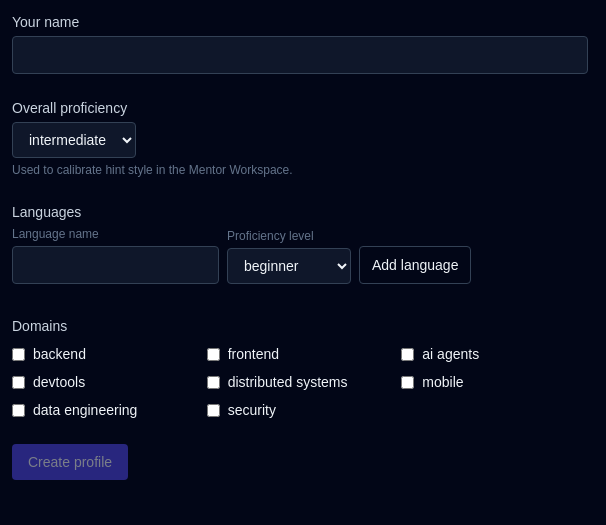
Test case: ProfileForm › shows a loading state while the request is in flight
Type "Ada Lovelace" into the field labelled "Your name" at x=300, y=55, box left=12, top=36, right=588, bottom=74
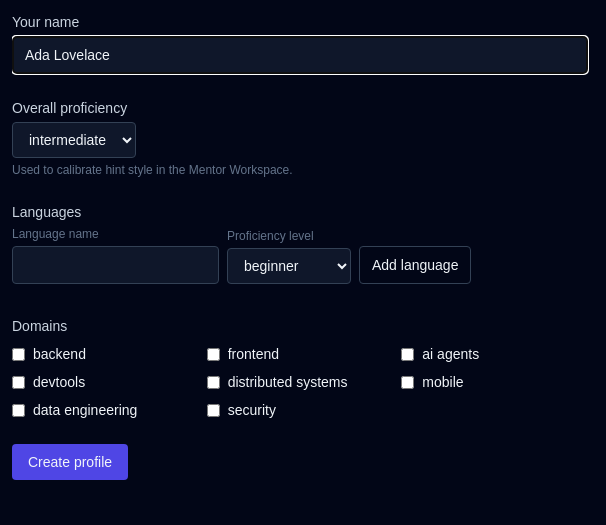
Type "Python" into the field labelled "Language name" at x=116, y=265, box left=12, top=246, right=219, bottom=284
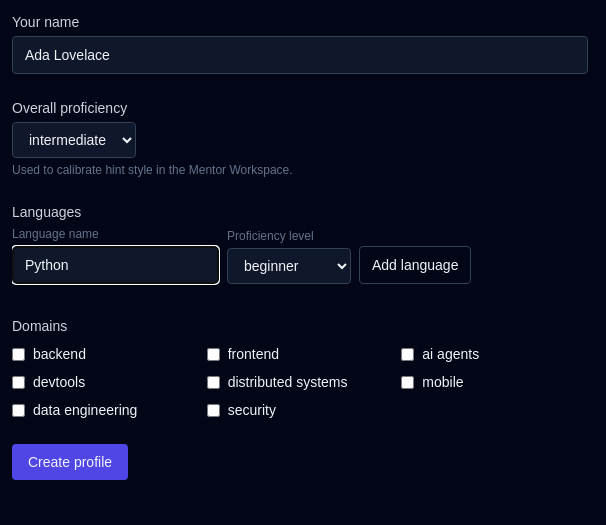
Select "advanced" in the dropdown labelled "Proficiency level" at x=289, y=266, box left=227, top=248, right=351, bottom=284
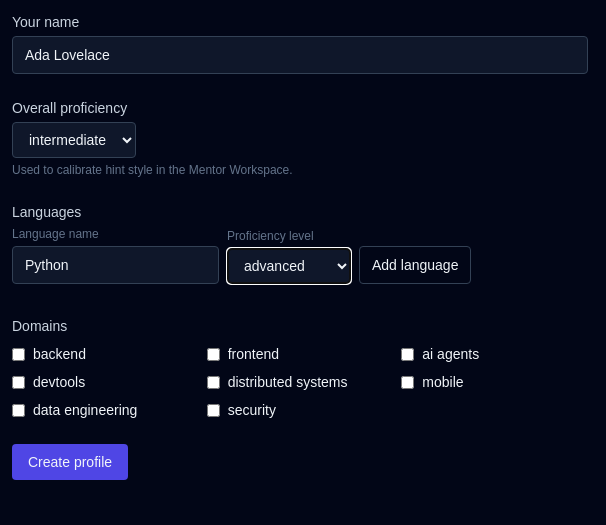
Click the button "Add language" at x=415, y=265, box left=359, top=246, right=471, bottom=284
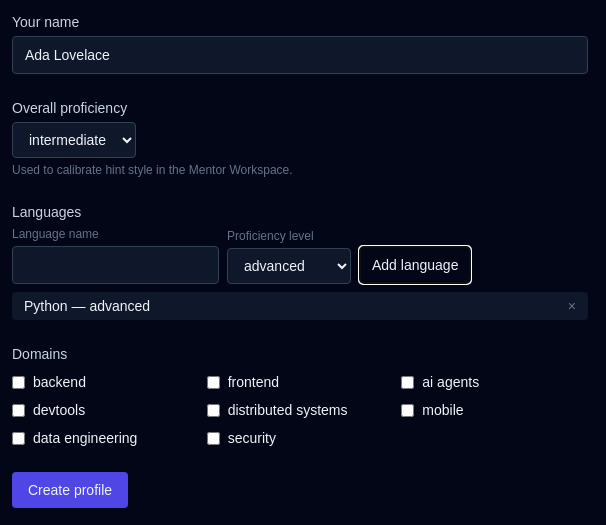
Click the checkbox labelled "backend" at x=18, y=382, box left=12, top=376, right=25, bottom=388
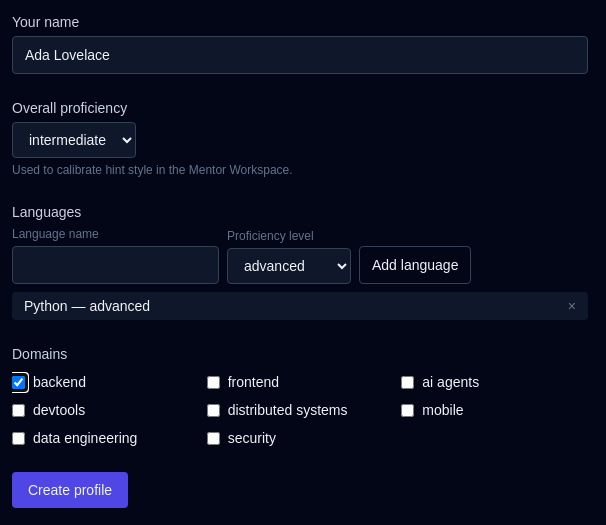
Click the button "Create profile" at x=70, y=490, box left=12, top=472, right=128, bottom=508
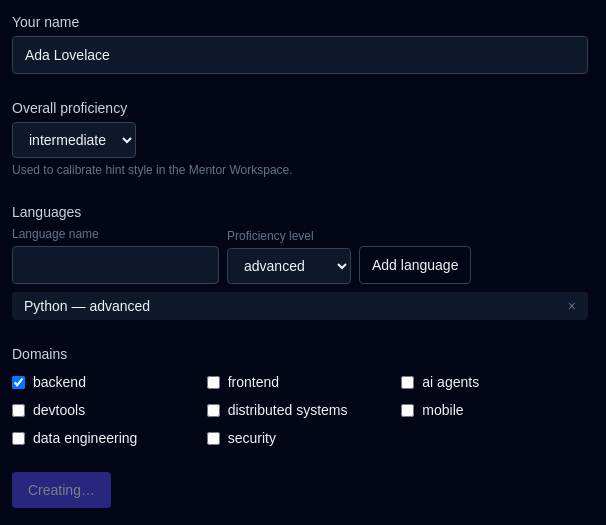
expect the button "Creating…" is disabled: met, box left=12, top=472, right=111, bottom=508
